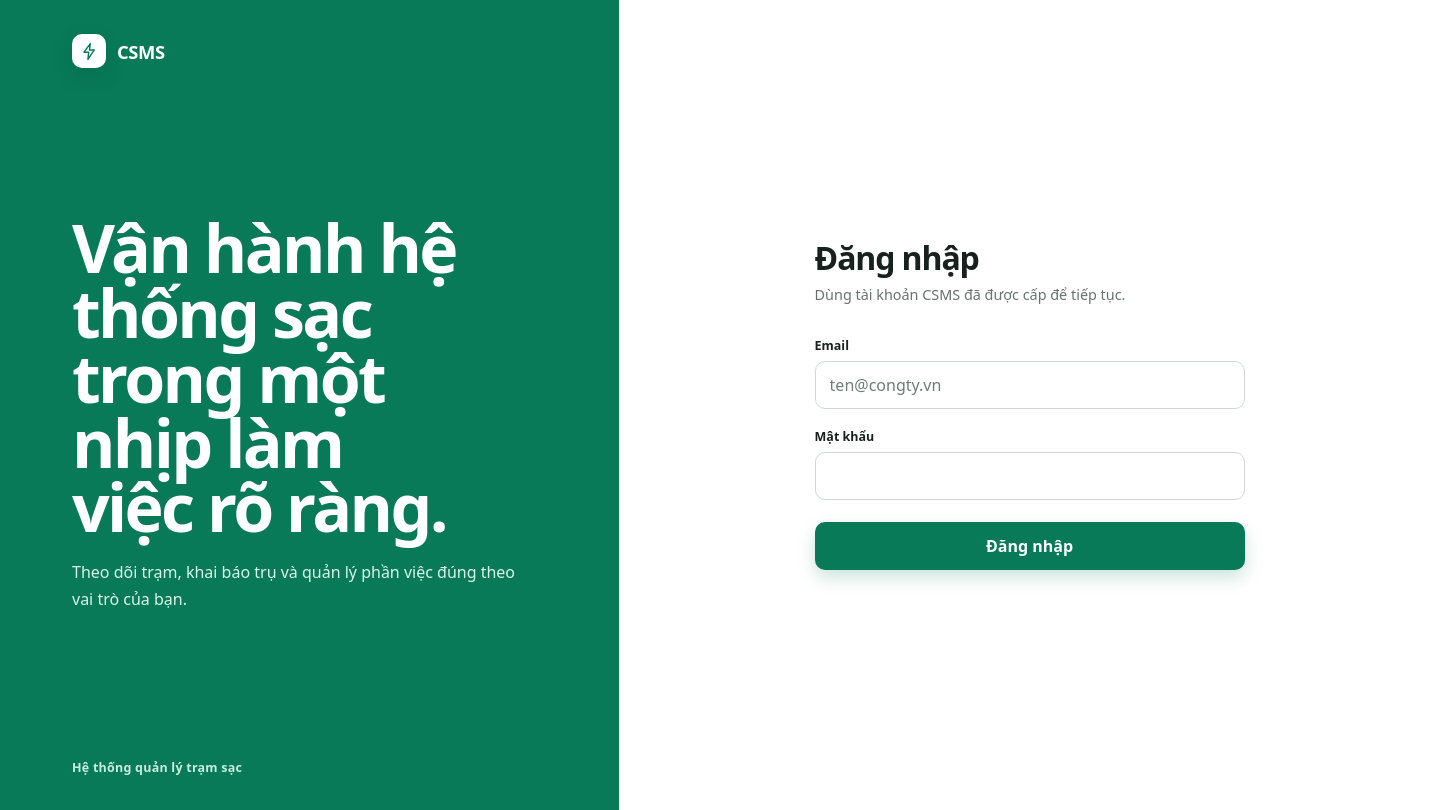
Test case: LoginPage › shows the generic invalid-credentials message
This screenshot has width=1440, height=810.
In the field labelled "Email": {"x": 1030, "y": 385} [815,361,1245,409], type "owner@example.com"
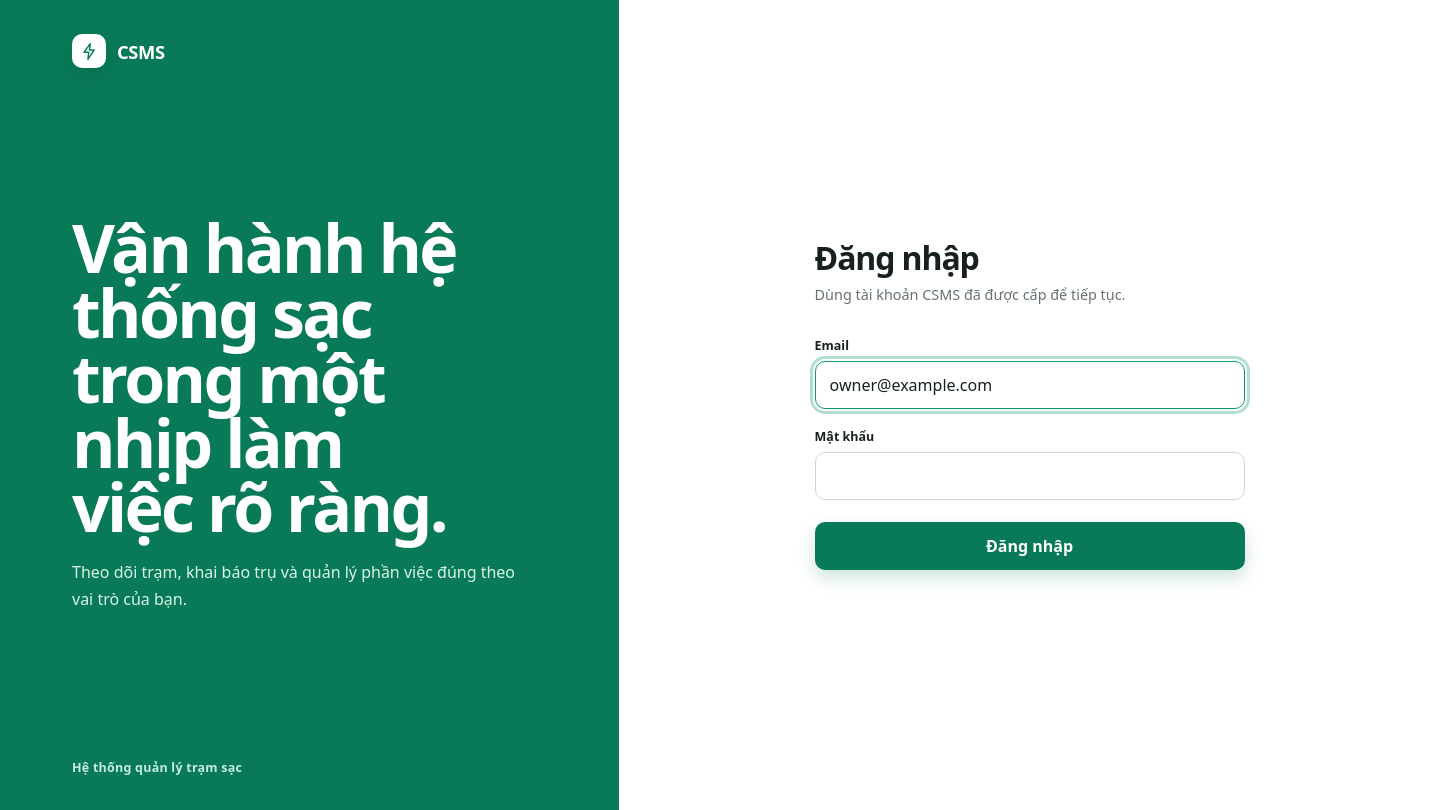
In the password field labelled "Mật khẩu": {"x": 1030, "y": 476} [815,452,1245,500], type "sai"
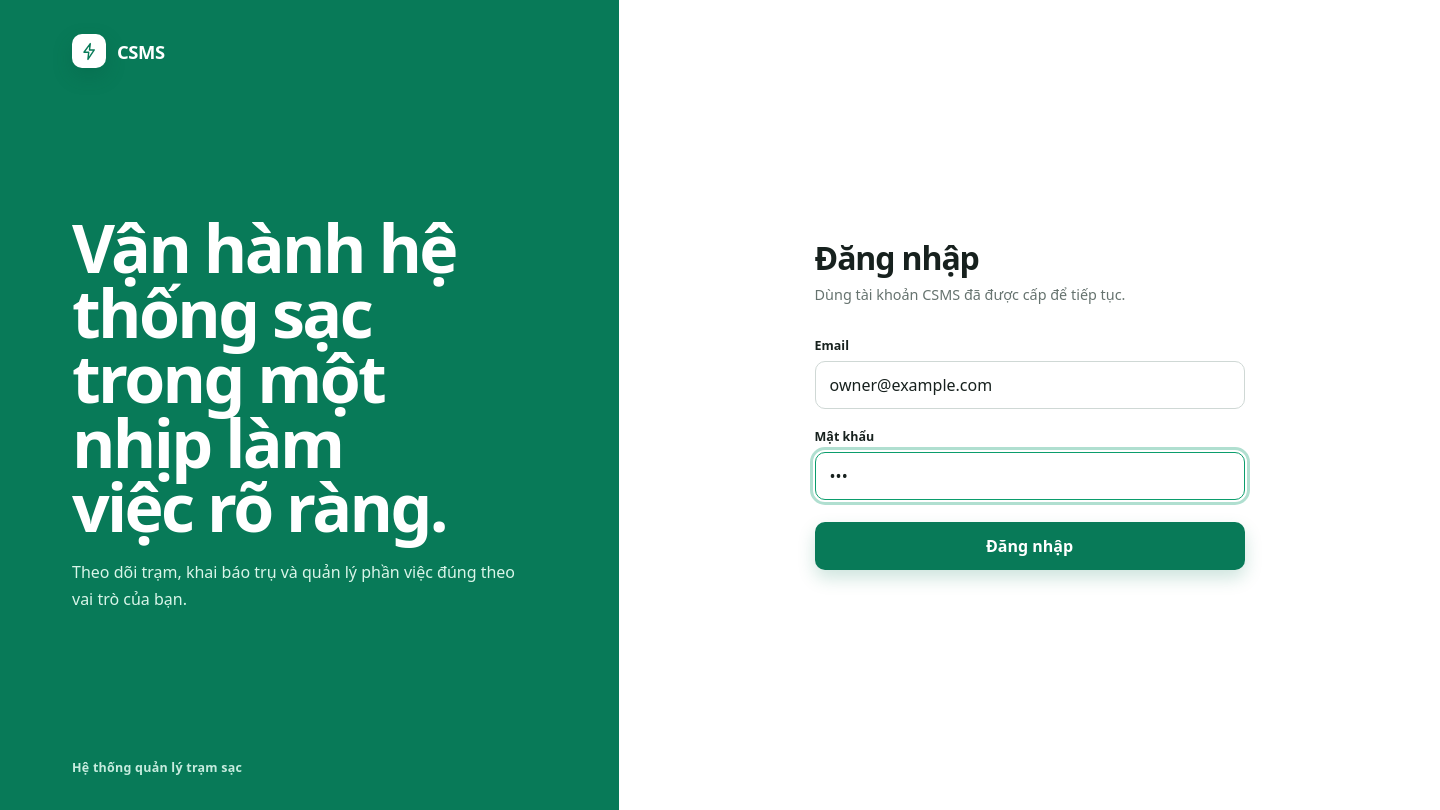
Click the button "Đăng nhập": {"x": 1030, "y": 546} [815,522,1245,570]
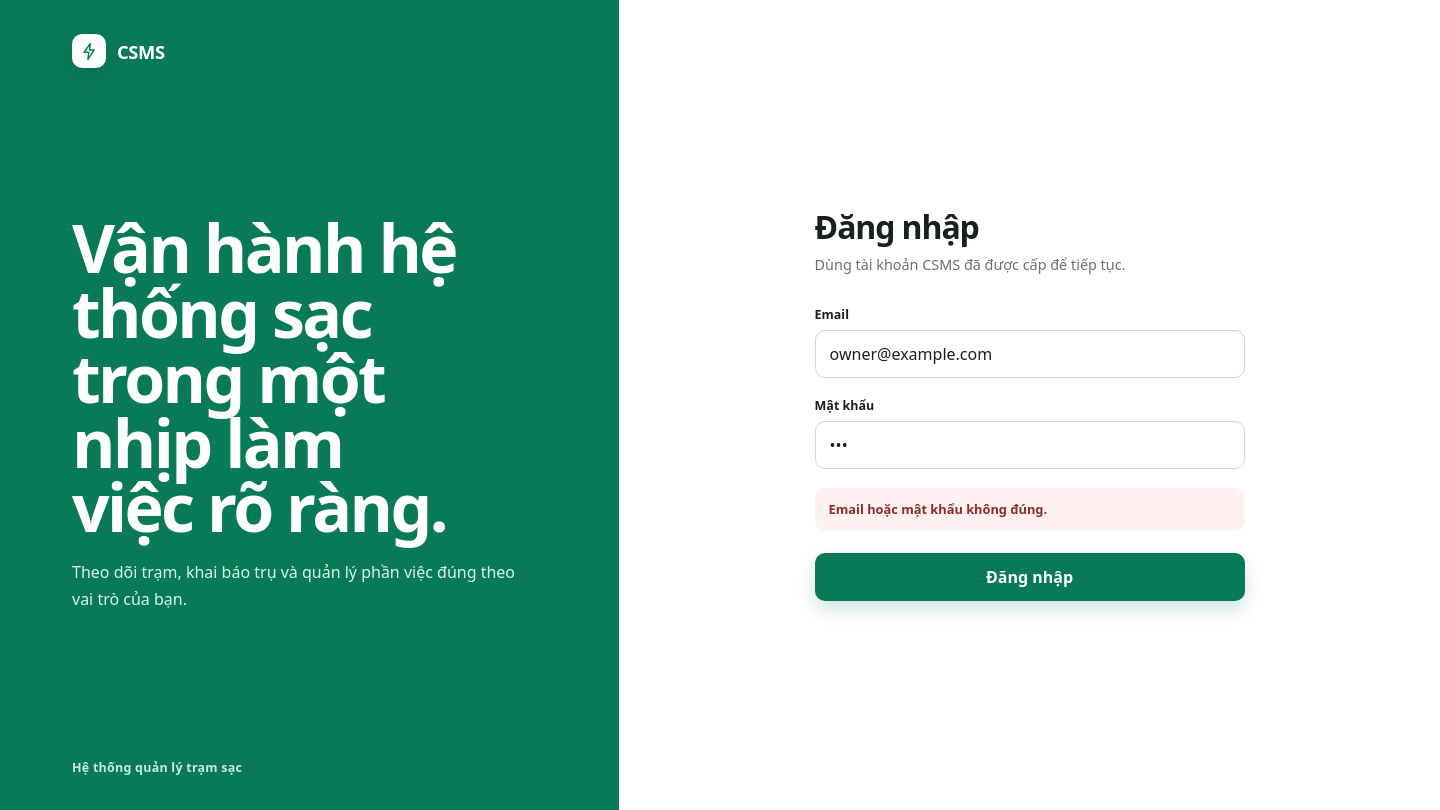
Result: the message reads "Email hoặc mật khẩu không đúng." at [829,500,1047,518]
